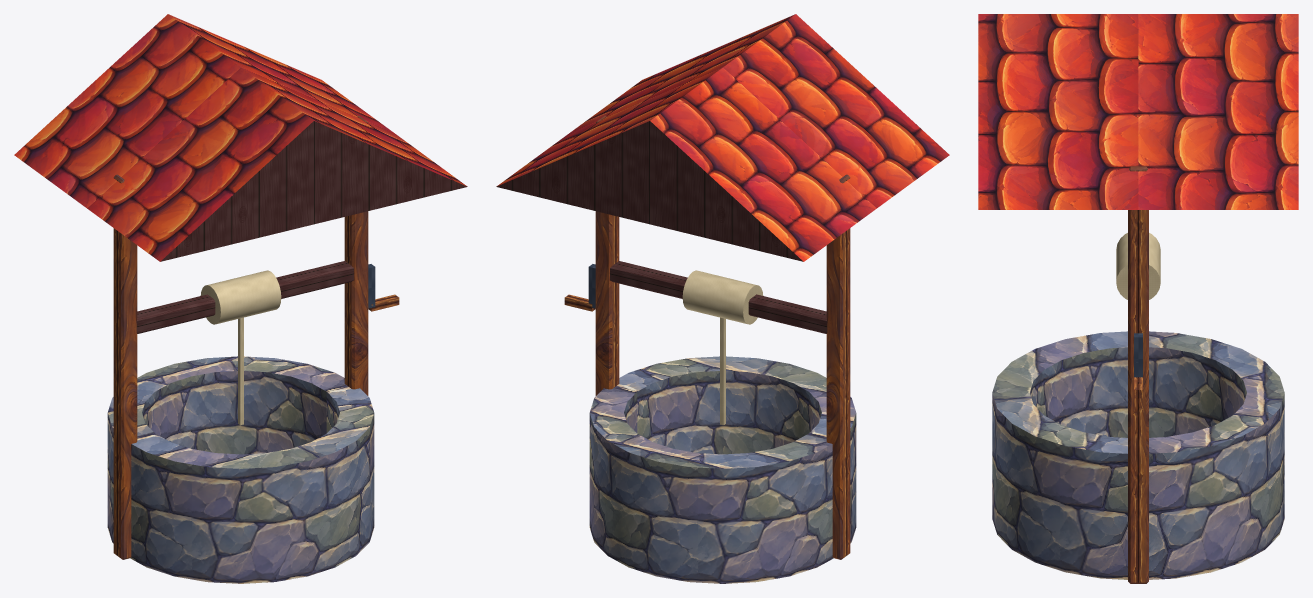
The model's file is Well.fbx.
The picture shows the model from 3 angles, left to right: view 1: azimuth 30°, elevation 25°; view 2: azimuth 150°, elevation 25°; view 3: azimuth 270°, elevation 25°; orthographic projection. The views are drawn at different scales.
Visible parts, largest first — view 1: Well roof, Well shaft, Well upright, Well upright.001, Well axle, Well rope winding drum, Well rope; view 2: Well roof, Well shaft, Well upright, Well upright.001, Well axle, Well rope winding drum, Well rope; view 3: Well roof, Well shaft, Well upright.001, Well rope winding drum.
Part boxes in pixels (bbox=[...]): Well roof: bbox=[14, 14, 467, 261]; Well shaft: bbox=[107, 356, 374, 583]; Well upright: bbox=[113, 174, 137, 559]; Well upright.001: bbox=[344, 115, 368, 395]; Well axle: bbox=[136, 261, 353, 333]; Well rope winding drum: bbox=[200, 270, 281, 324]; Well rope: bbox=[238, 317, 243, 425]; Well roof: bbox=[496, 14, 949, 261]; Well shaft: bbox=[589, 356, 856, 583]; Well upright: bbox=[826, 174, 850, 559]; Well upright.001: bbox=[595, 115, 619, 395]; Well axle: bbox=[610, 261, 827, 333]; Well rope winding drum: bbox=[682, 270, 763, 324]; Well rope: bbox=[720, 317, 725, 425]; Well roof: bbox=[978, 14, 1298, 209]; Well shaft: bbox=[992, 331, 1284, 579]; Well upright.001: bbox=[1128, 166, 1148, 583]; Well rope winding drum: bbox=[1116, 233, 1160, 299].
Size of the model in its own units: 282 by 400 by 230.
